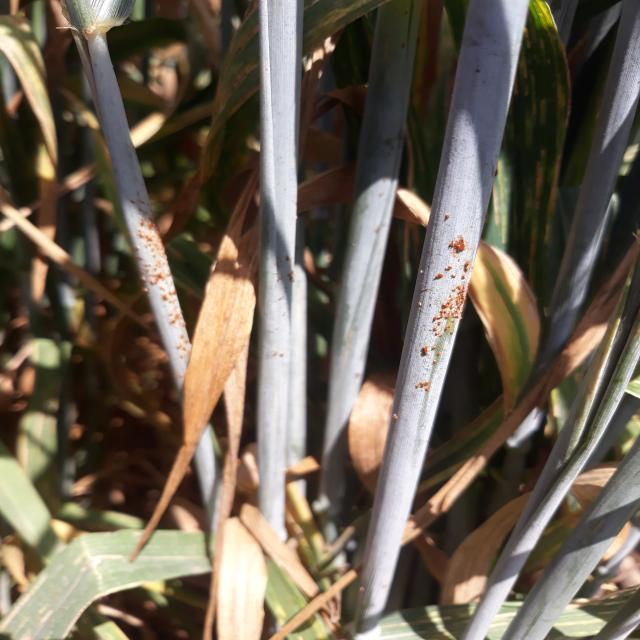black_stem_rust: (362, 3, 537, 585), (66, 9, 207, 386), (252, 0, 308, 377)
